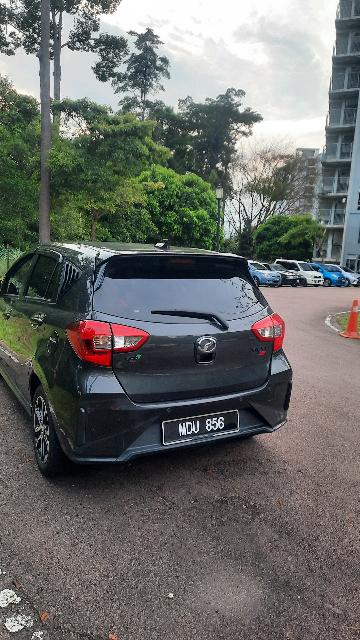License_Plate: (158, 407, 244, 447)
car: (1, 231, 295, 482)
